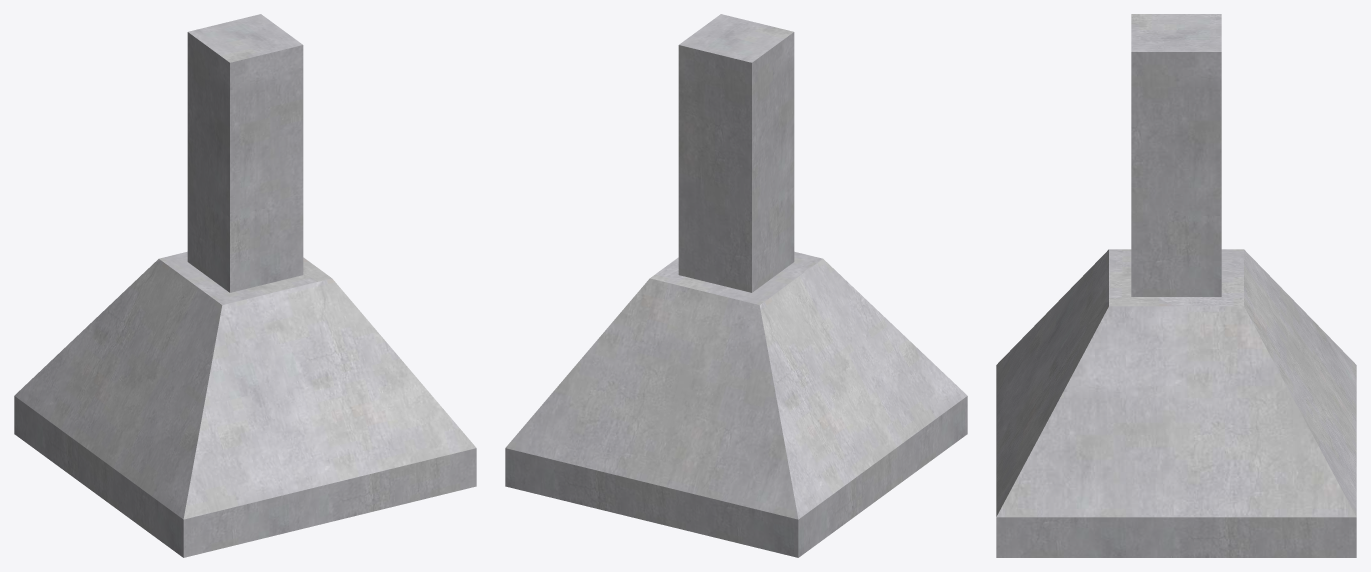
The model's file is tapered-base.glb.
3 views of the same model, side by side, from view 1: azimuth 30°, elevation 25°; view 2: azimuth 150°, elevation 25°; view 3: azimuth 270°, elevation 25° (orthographic). The views are drawn at different scales.
Parts seen in each view (by area): view 1: 锥形基础; view 2: 锥形基础; view 3: 锥形基础.
Boxes of the visible parts, x1,y1,x2,y2 form: 锥形基础: (14, 14, 476, 557); 锥形基础: (505, 14, 967, 557); 锥形基础: (996, 14, 1356, 557).
Size of the model in its own units: 1.6 by 2.2 by 1.6.
Materials: 1 (1 with a texture image).
